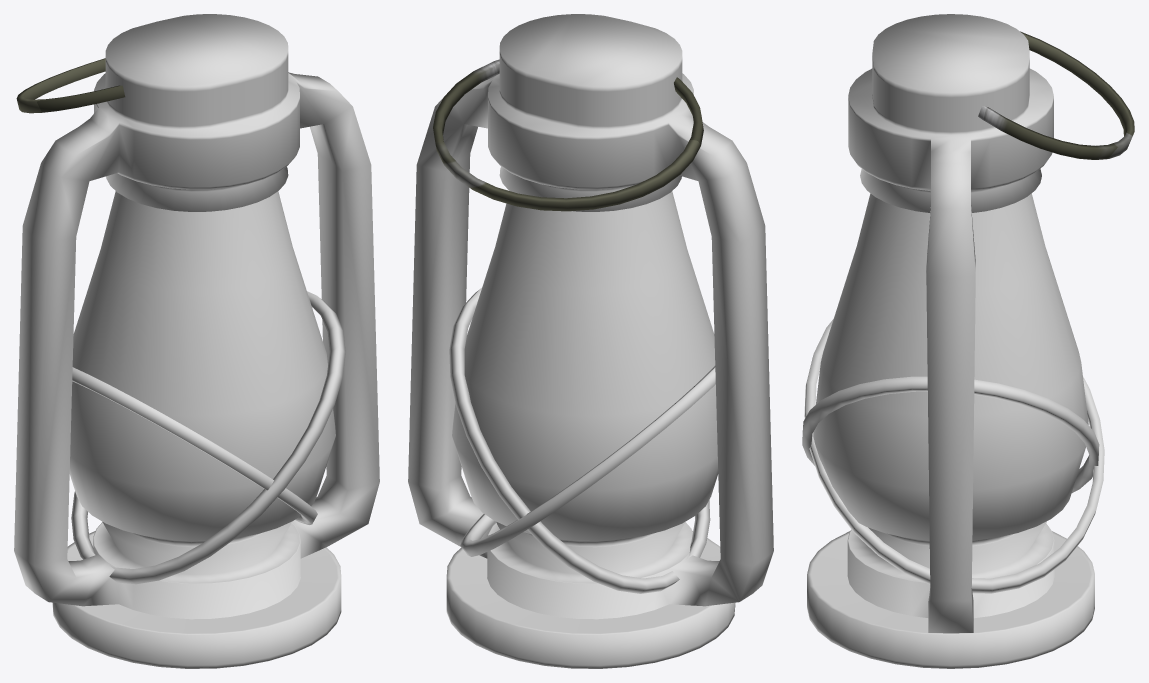
File: handheld.fbx
3 renders of one model, left to right at view 1: azimuth 30°, elevation 25°; view 2: azimuth 150°, elevation 25°; view 3: azimuth 270°, elevation 25°, orthographic.
Visible parts, largest first — view 1: Circle, Circle.002, Circle.003, Circle.004; view 2: Circle, Circle.002, Circle.004, Circle.003; view 3: Circle, Circle.003, Circle.002, Circle.004.
Boxes of the visible parts, <box> form: Circle: <box>14,14,379,668</box>; Circle.002: <box>71,291,345,584</box>; Circle.003: <box>72,367,317,524</box>; Circle.004: <box>16,58,125,113</box>; Circle: <box>408,14,773,668</box>; Circle.002: <box>449,288,710,593</box>; Circle.004: <box>433,59,703,211</box>; Circle.003: <box>460,365,715,556</box>; Circle: <box>807,14,1094,668</box>; Circle.003: <box>804,319,1104,593</box>; Circle.002: <box>802,376,1099,492</box>; Circle.004: <box>978,31,1134,159</box>.
Size of the model in its own units: 0.1801 by 0.2756 by 0.1497.
